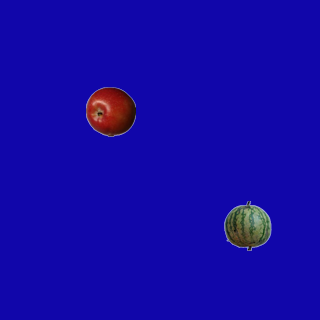Apple Braeburn: (85, 86, 135, 136)
Watermelon: (222, 200, 272, 250)
